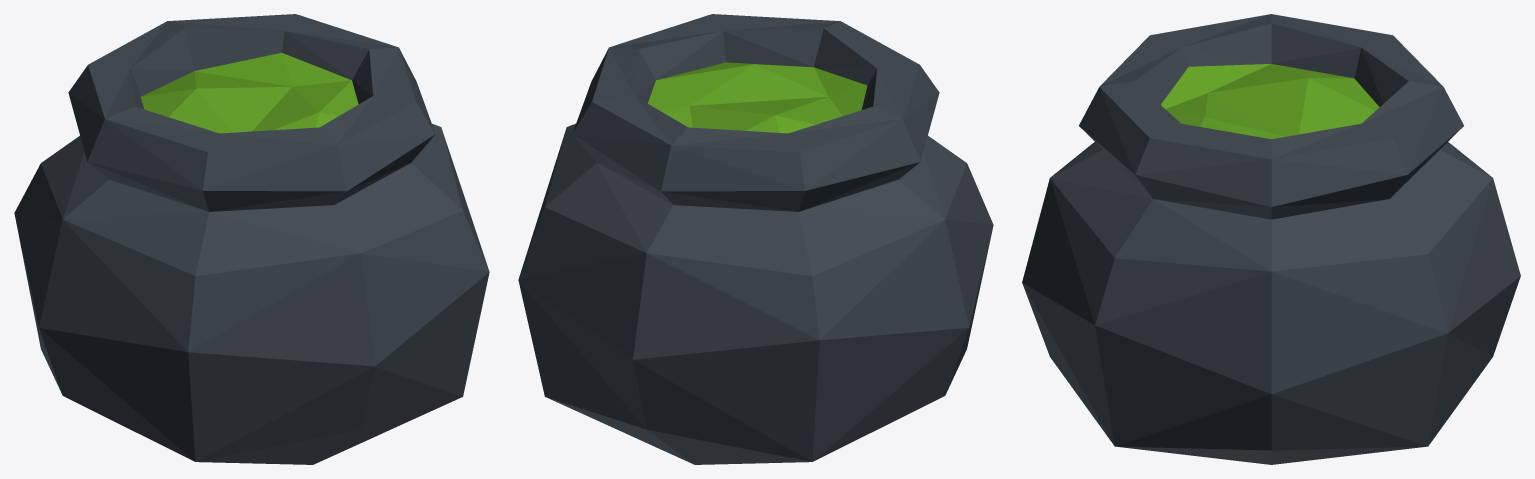
File: cauldron.fbx
The picture shows the model from 3 angles, left to right: view 1: azimuth 30°, elevation 25°; view 2: azimuth 150°, elevation 25°; view 3: azimuth 270°, elevation 25°; orthographic projection.
Visible parts, largest first — view 1: cauldron; view 2: cauldron; view 3: cauldron.
Part boxes in pixels (box(x1,y1,x2,y2)): cauldron: box(14, 14, 489, 464); cauldron: box(518, 14, 993, 464); cauldron: box(1022, 14, 1520, 464).
Bounding box in the file's own units: 3.31 × 2.54 × 3.31.
